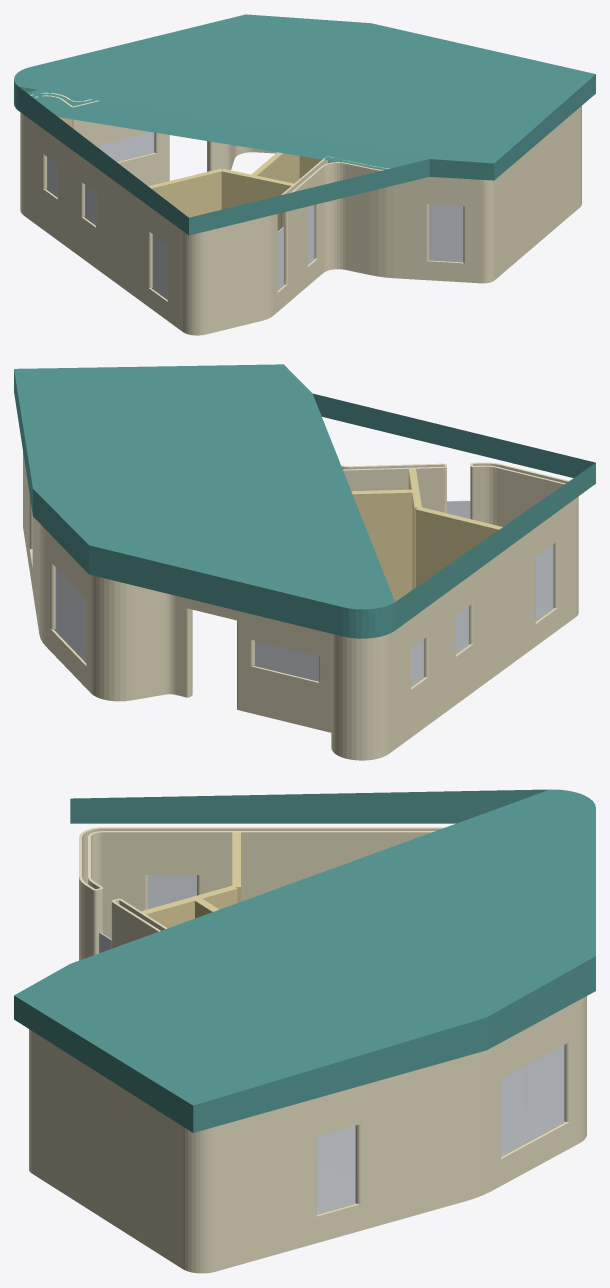
File: Mark9.glb
3 renders of one model, top to bottom at view 1: azimuth 30°, elevation 25°; view 2: azimuth 150°, elevation 25°; view 3: azimuth 270°, elevation 25°, orthographic. The views are drawn at different scales.
Size of the model in its own units: 41.44 by 11.52 by 32.94.
